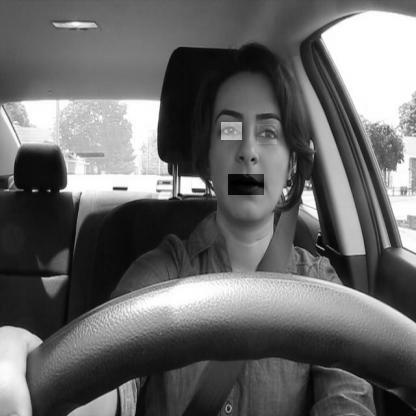seatbelt: (184, 41, 314, 416)
